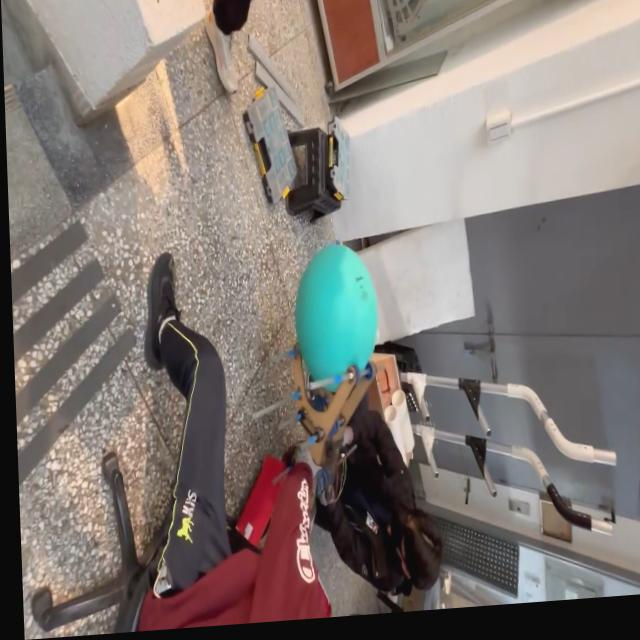ALGAE: (290, 238, 381, 394)
